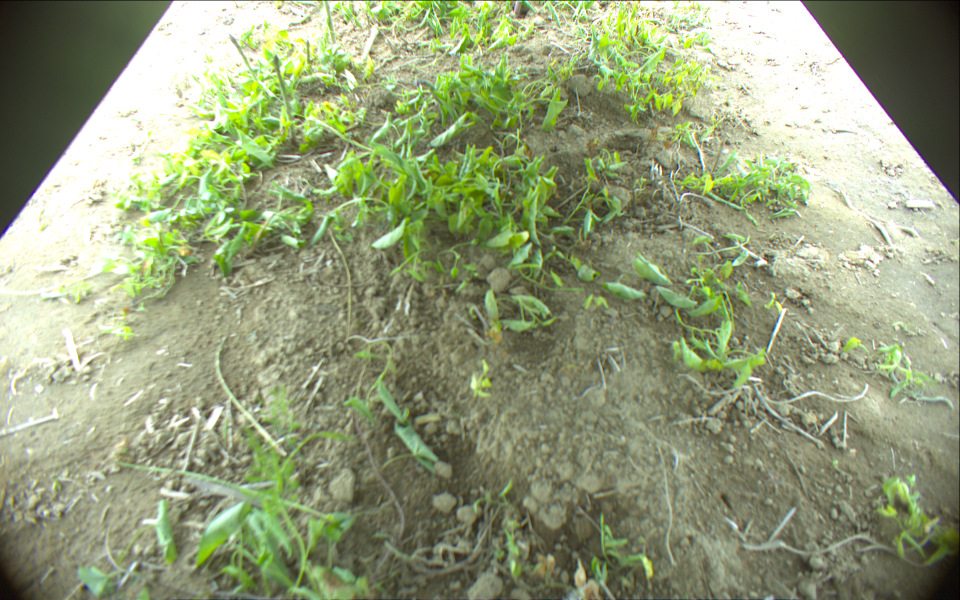aspa: (209, 334, 288, 459), (270, 55, 299, 142), (228, 32, 264, 90), (322, 1, 338, 42), (305, 40, 312, 66)
